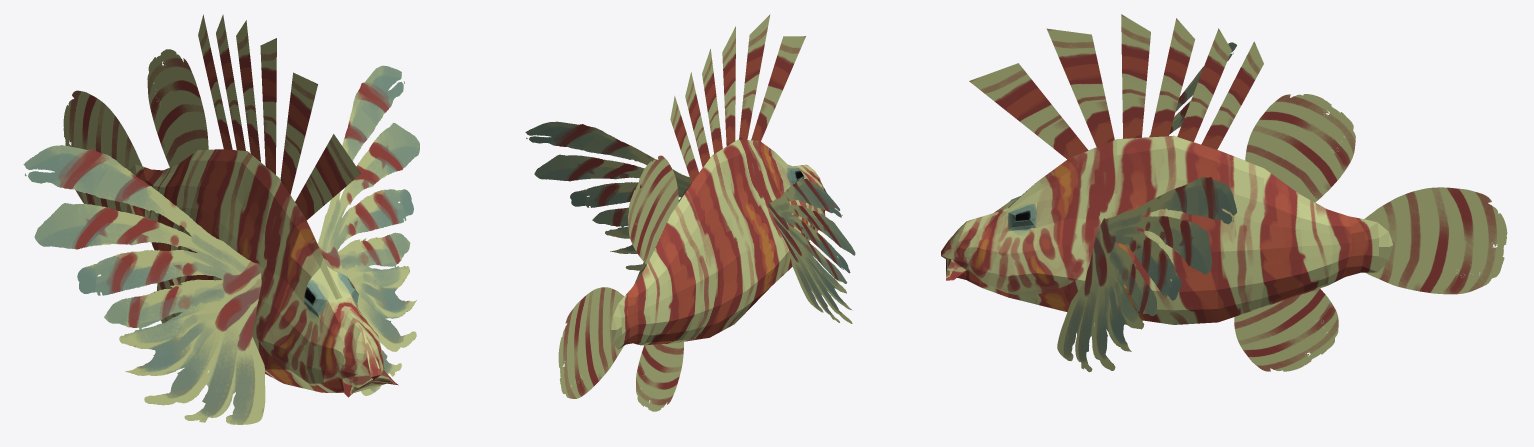
The model's file is Lionfish.fbx.
3 views of the same model, side by side, from view 1: azimuth 30°, elevation 25°; view 2: azimuth 150°, elevation 25°; view 3: azimuth 270°, elevation 25° (orthographic). The views are drawn at different scales.
Visible parts, largest first — view 1: Plane.013; view 2: Plane.013; view 3: Plane.013.
Boxes of the visible parts, bbox=[...] form: Plane.013: bbox=[23, 14, 419, 424]; Plane.013: bbox=[525, 14, 855, 411]; Plane.013: bbox=[941, 14, 1507, 372].
Bounding box in the file's own units: 434 × 371 × 512.
1 material, 1 textured.
